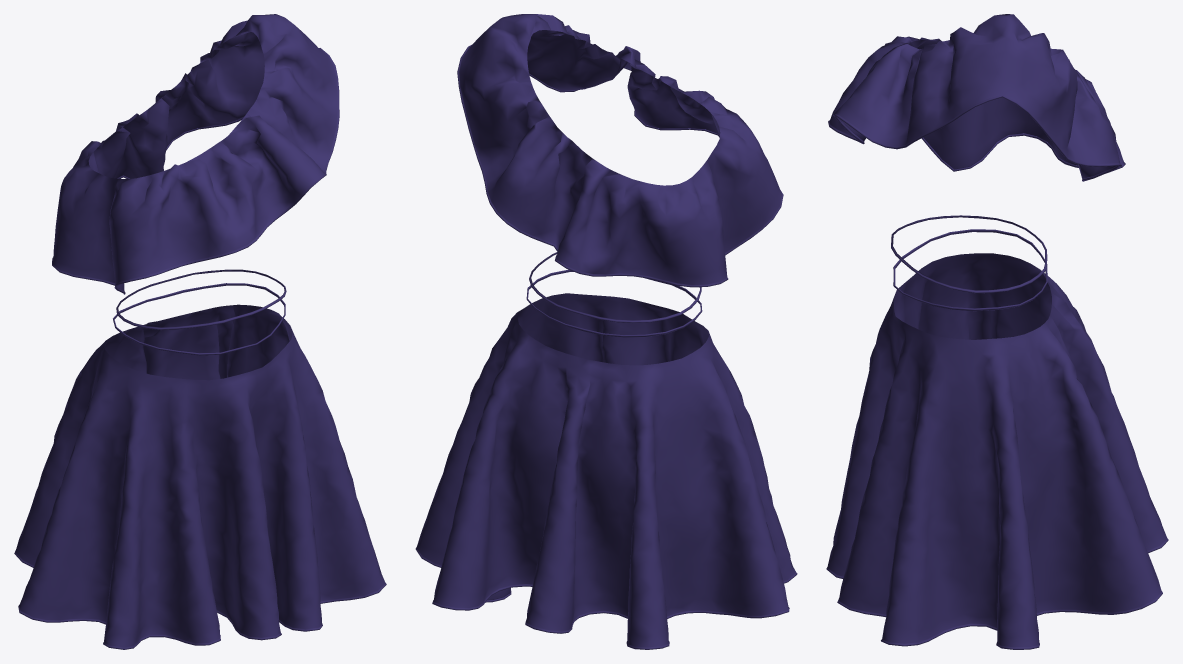
The model's file is bottom02.glb.
3 renders of one model, left to right at view 1: azimuth 30°, elevation 25°; view 2: azimuth 150°, elevation 25°; view 3: azimuth 270°, elevation 25°, orthographic. The views are drawn at different scales.
Parts seen in each view (by area): view 1: Object_3; view 2: Object_3; view 3: Object_3.
Part boxes in pixels (x1,y1,x2,y2): Object_3: (14,14,386,649); Object_3: (415,14,797,649); Object_3: (826,14,1168,649).
Size of the model in its own units: 54.08 by 82.7 by 42.41.
